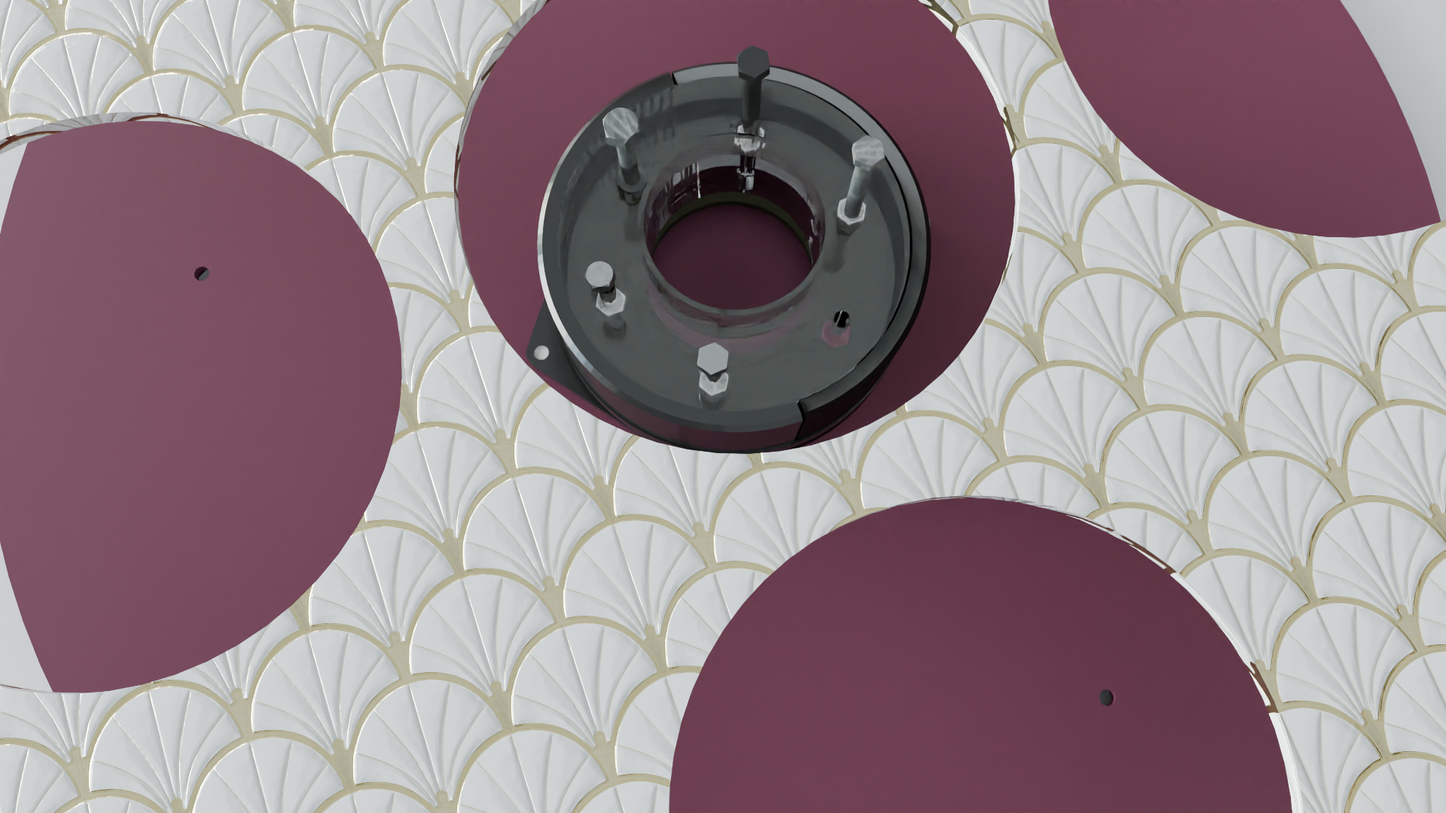bolt: (602, 108, 640, 144), (737, 45, 770, 78), (697, 342, 729, 375), (853, 135, 885, 166), (584, 261, 615, 288)
